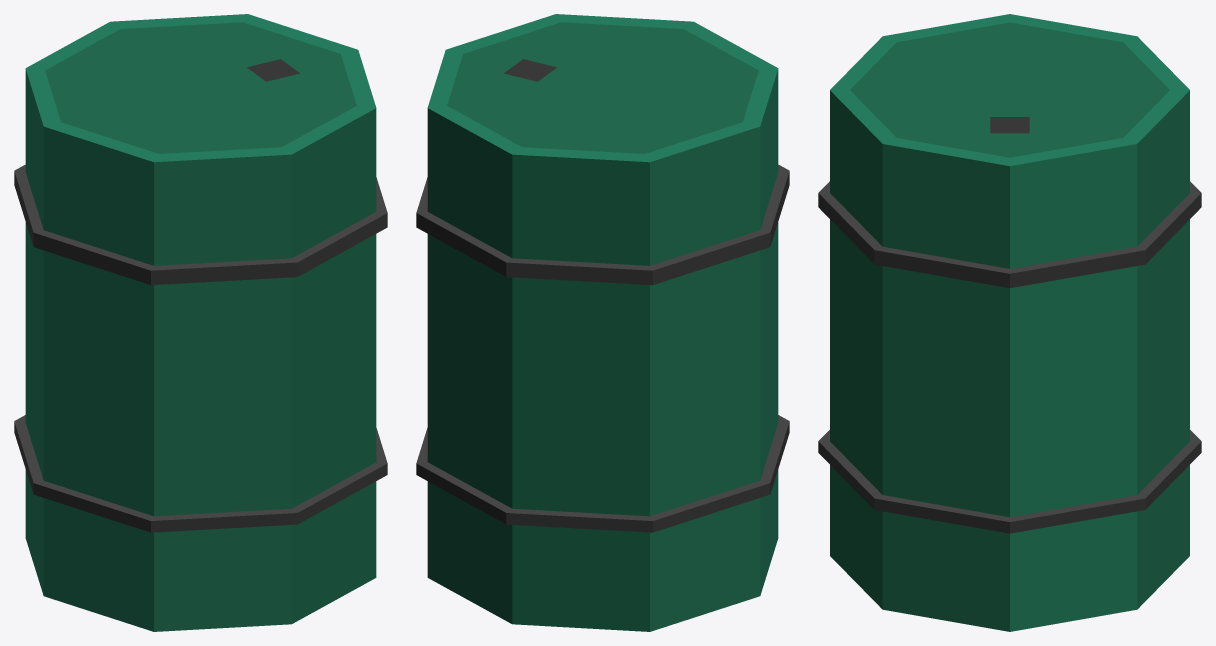
The model's file is SA_Prop_Barrel_01.glb.
The picture shows the model from 3 angles, left to right: view 1: azimuth 30°, elevation 25°; view 2: azimuth 150°, elevation 25°; view 3: azimuth 270°, elevation 25°; orthographic projection.
Parts seen in each view (by area): view 1: SA_Prop_Barrel_01; view 2: SA_Prop_Barrel_01; view 3: SA_Prop_Barrel_01.
Boxes of the visible parts, x1,y1,x2,y2 form: SA_Prop_Barrel_01: (14,14,387,631); SA_Prop_Barrel_01: (416,14,789,631); SA_Prop_Barrel_01: (818,14,1201,631).
Bounding box in the file's own units: 0.8938 × 1.2 × 0.8938.
1 material, 1 textured.
